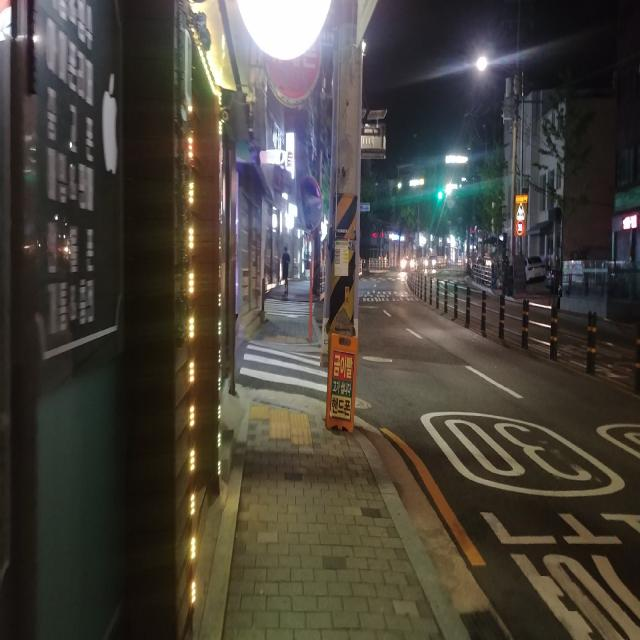횡단보도: (239, 344, 328, 393)
